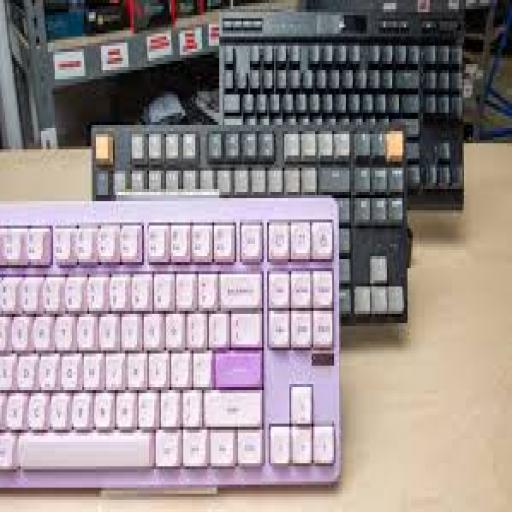KEYBOARD-2: (0, 198, 339, 488), (92, 122, 411, 317), (221, 0, 462, 204)
